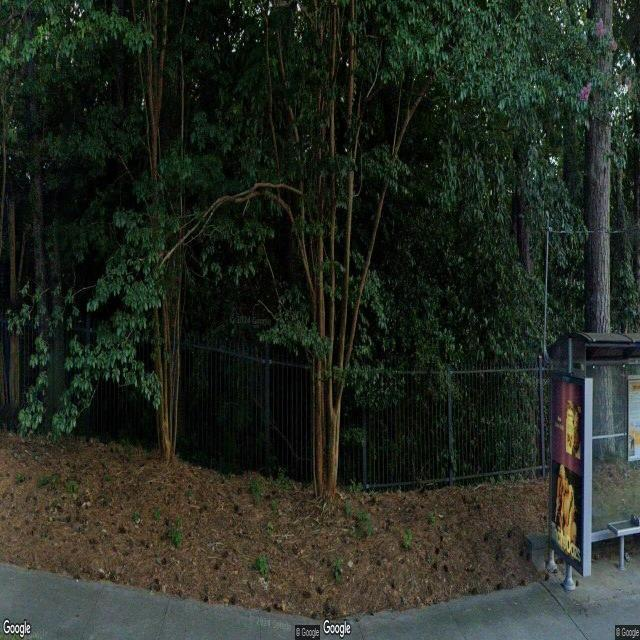seating: (608, 509, 640, 572)
shelter: (544, 333, 640, 587)
